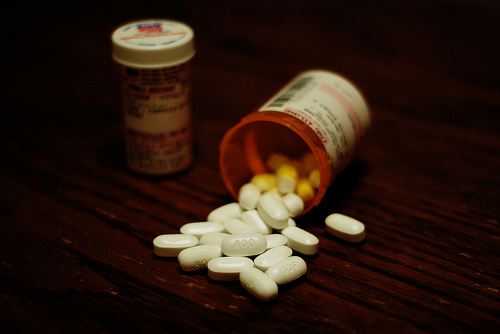pill bottle: (222, 70, 371, 217), (111, 19, 196, 178)
